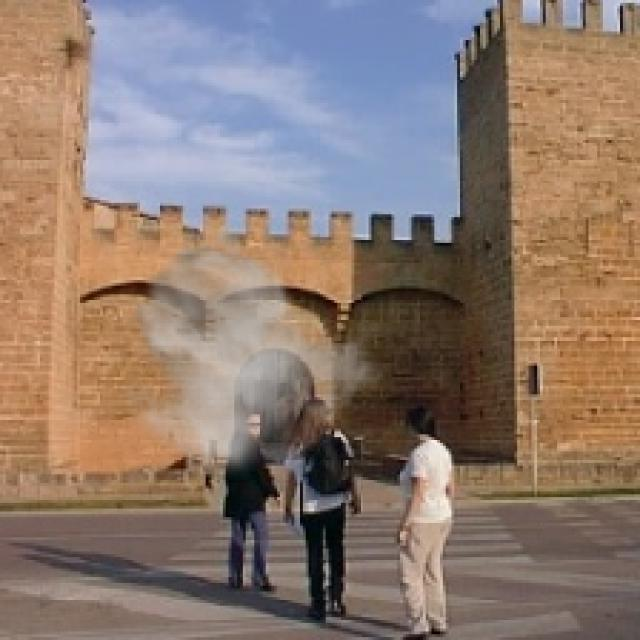Smoke: (108, 223, 392, 483)
